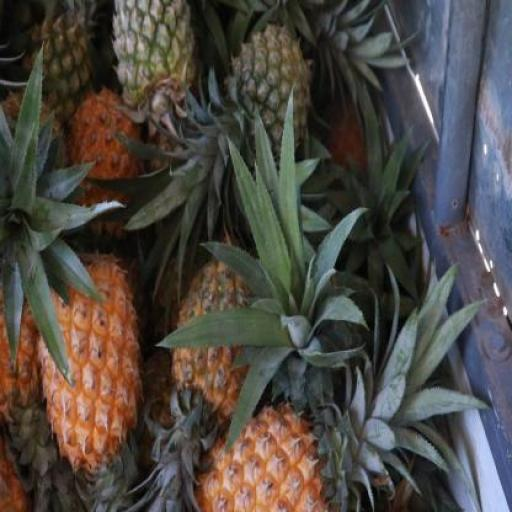Pineapple - v8 v1: (35, 239, 147, 466), (185, 402, 328, 511)
